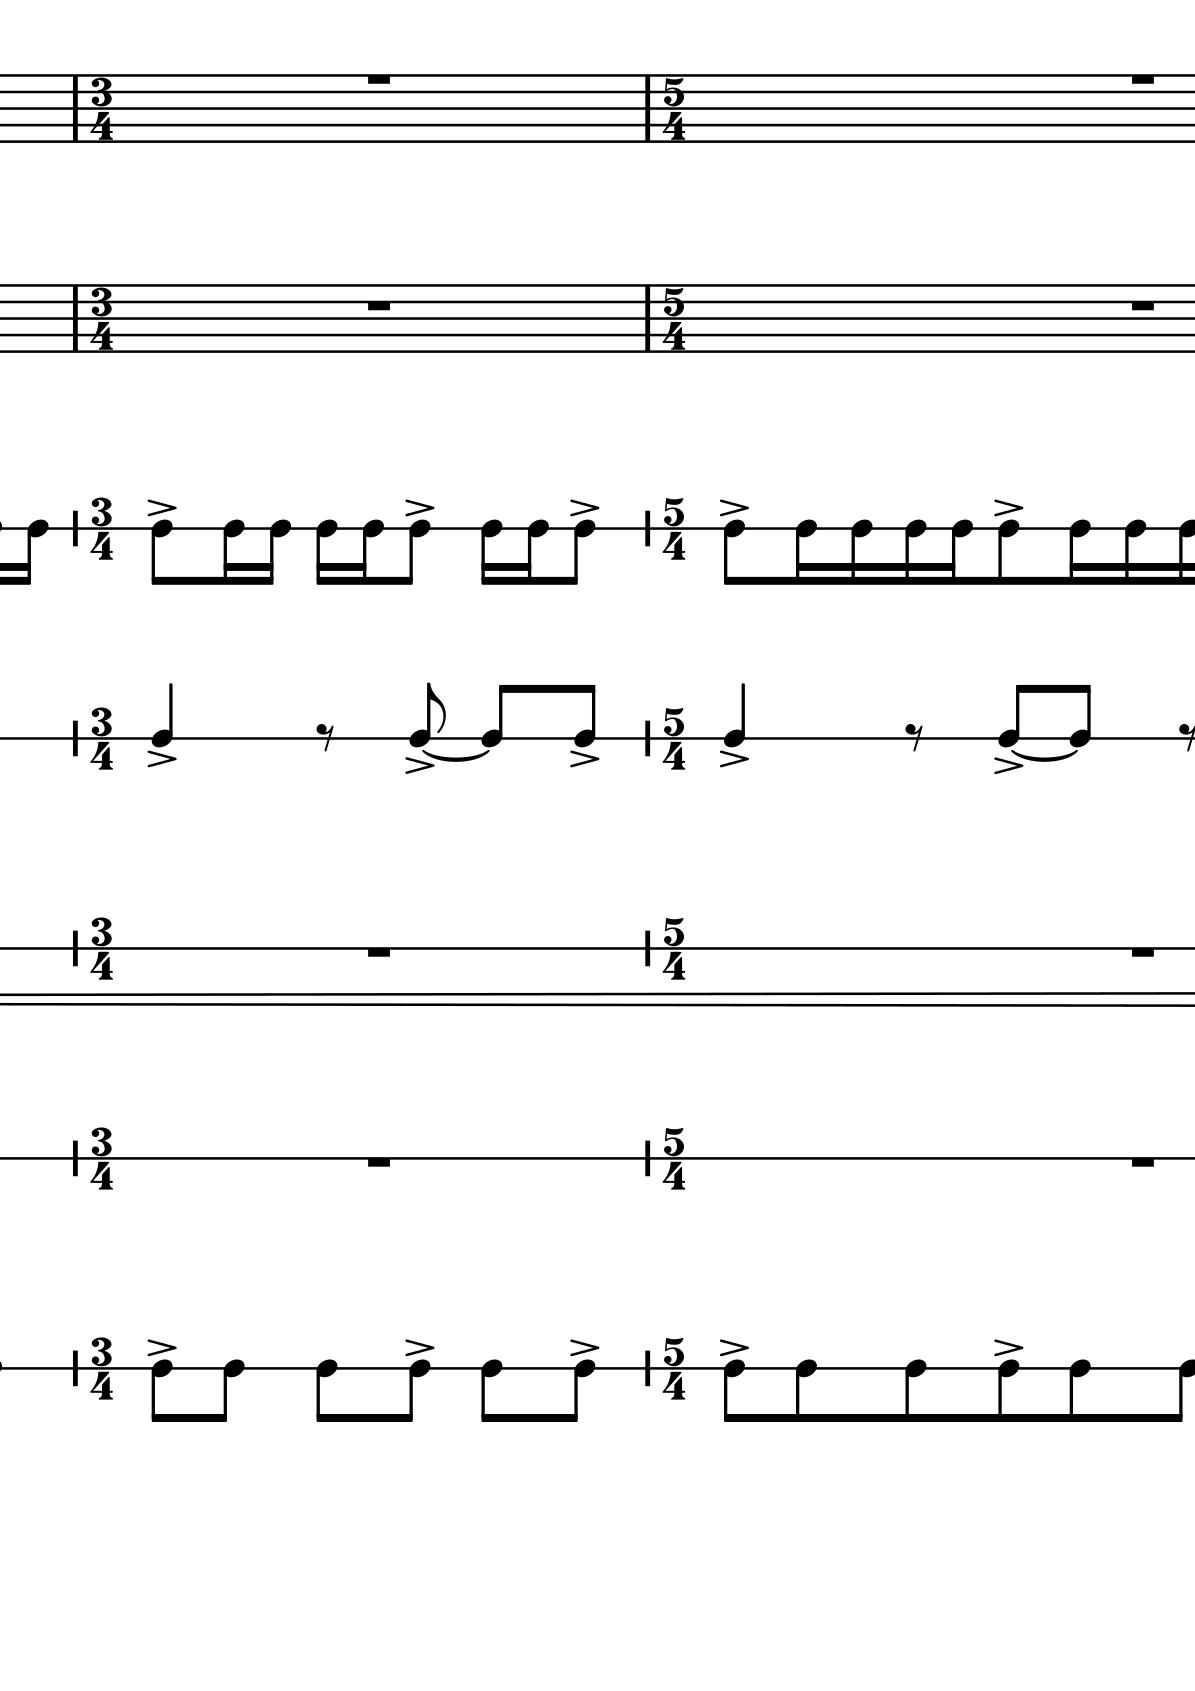16_4: (353, 517, 384, 590), (261, 518, 292, 590), (517, 518, 548, 588), (943, 517, 973, 590), (17, 518, 47, 590), (1067, 516, 1093, 590), (1121, 516, 1147, 590), (847, 516, 873, 588), (901, 517, 927, 587), (479, 518, 503, 590), (313, 518, 338, 588), (794, 518, 817, 587), (222, 518, 244, 587), (1176, 518, 1195, 588)
3: (87, 283, 116, 317), (87, 705, 115, 738), (88, 72, 114, 109), (88, 494, 115, 527), (88, 1125, 115, 1158), (88, 1335, 115, 1368), (88, 914, 114, 948)
4: (88, 317, 116, 352), (89, 1368, 118, 1403), (88, 107, 116, 141), (662, 950, 691, 984), (661, 317, 688, 352), (89, 739, 118, 772), (661, 1158, 688, 1192), (661, 107, 688, 140), (91, 527, 116, 561), (662, 527, 687, 562), (662, 1368, 687, 1403), (91, 1158, 116, 1191), (89, 949, 116, 979), (661, 739, 687, 771)
4_4: (150, 683, 175, 747), (723, 680, 748, 745)
5: (660, 494, 688, 527), (660, 914, 688, 948), (661, 1335, 689, 1369), (660, 284, 688, 317), (660, 705, 687, 738), (660, 1125, 687, 1158), (662, 74, 685, 109)
8_4: (407, 683, 447, 746), (479, 683, 513, 747), (995, 681, 1028, 746), (401, 517, 431, 590), (566, 516, 596, 588), (215, 1357, 246, 1426), (402, 1356, 432, 1426), (566, 1357, 596, 1426), (147, 1352, 175, 1426), (149, 513, 175, 590), (995, 516, 1020, 590), (720, 1354, 746, 1426), (720, 516, 746, 587), (995, 1355, 1020, 1425), (901, 1357, 927, 1425), (479, 1356, 503, 1425), (1067, 1357, 1092, 1425), (574, 683, 599, 749), (1067, 683, 1092, 747), (314, 1357, 338, 1425), (794, 1357, 817, 1425)
Accent_above: (566, 1335, 601, 1359), (144, 495, 177, 518), (566, 495, 600, 518), (716, 495, 750, 518), (991, 495, 1024, 518), (566, 747, 601, 769), (991, 1335, 1026, 1357), (144, 1335, 177, 1357), (401, 1335, 435, 1357), (716, 1335, 750, 1357), (144, 749, 178, 769), (402, 496, 435, 518), (716, 749, 750, 769), (401, 755, 435, 774), (991, 756, 1026, 774)
Rests1: (361, 944, 394, 966), (1126, 942, 1159, 963), (1126, 1153, 1159, 1173), (363, 70, 394, 89), (363, 296, 394, 315), (1126, 70, 1159, 88), (1126, 297, 1159, 315), (362, 1154, 394, 1173)
Rests8: (903, 720, 926, 752), (314, 721, 336, 752), (1177, 721, 1195, 754)
Single_barline: (638, 284, 658, 352), (640, 72, 660, 144), (65, 288, 85, 352), (67, 72, 85, 141)
TimeSig: (660, 74, 689, 144), (88, 74, 116, 144), (88, 284, 116, 354), (88, 494, 116, 564), (661, 491, 688, 564), (662, 284, 688, 354), (661, 1125, 687, 1195), (88, 1339, 115, 1405), (661, 911, 685, 984), (88, 1126, 114, 1195), (88, 917, 114, 984), (91, 708, 114, 774), (661, 1346, 685, 1407)
